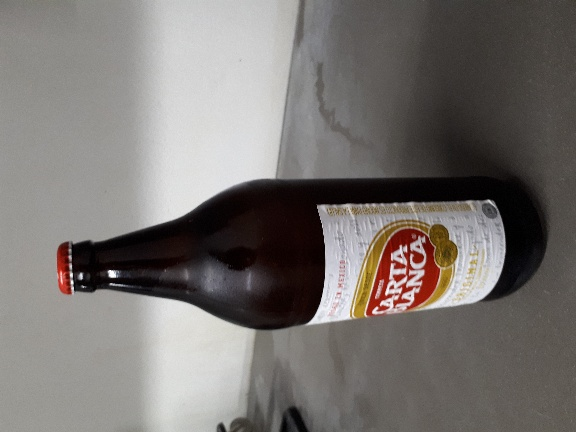CBB: (209, 137, 372, 241)
